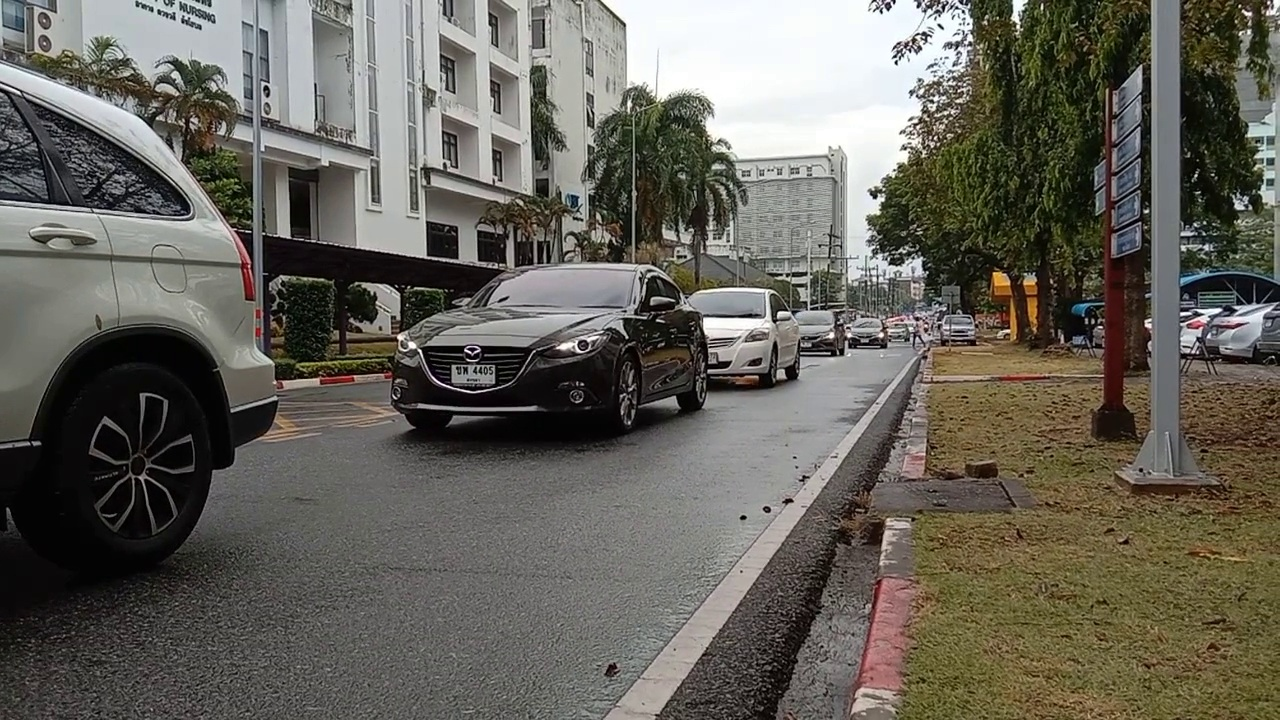License Plate: (451, 364, 498, 385)
